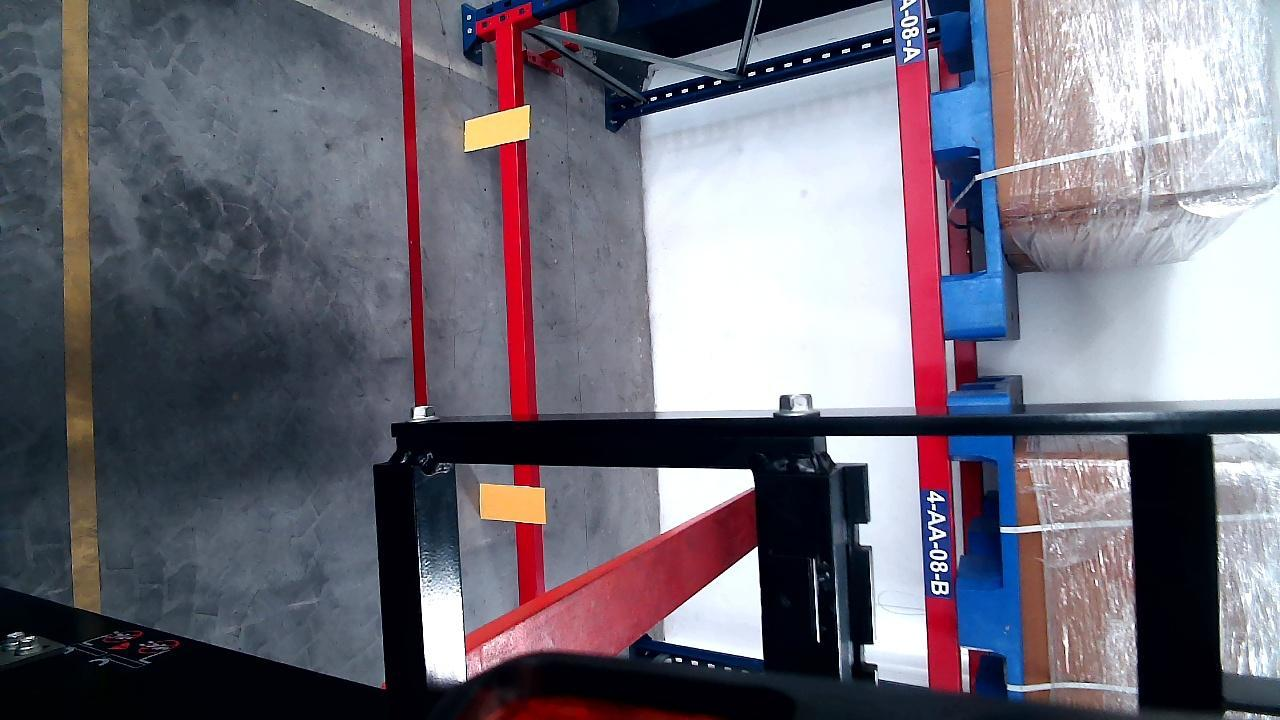red_line: (399, 0, 431, 414)
